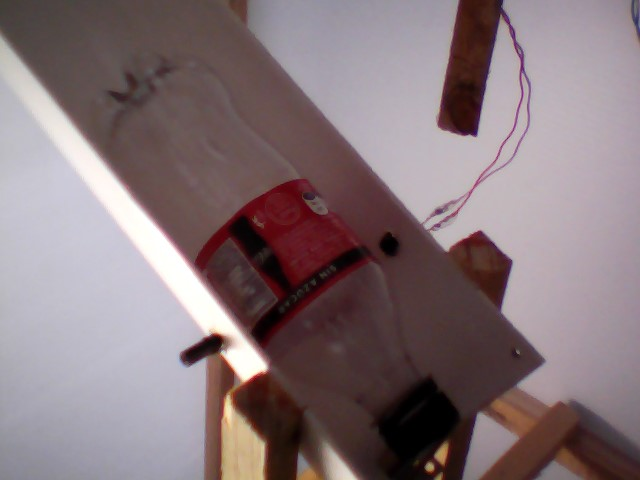plastico: (80, 41, 472, 471)
